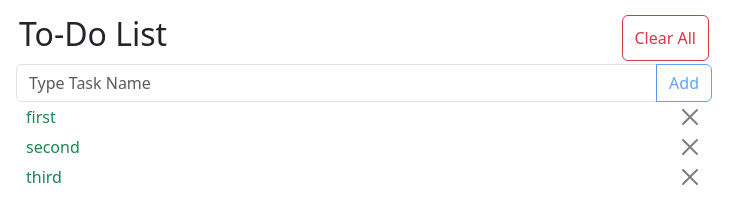
Test case: to do list › test Clear All
Step 1. Click the button "Clear All" → [665, 38], box [622,15,709,61]
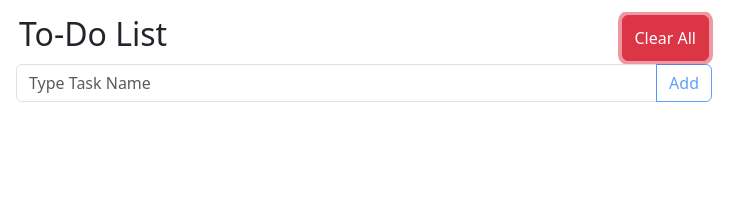
Result: the list is gone
